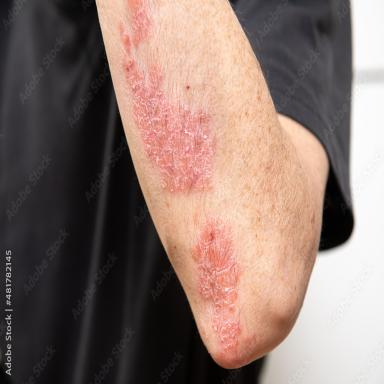Psoriasis: (118, 0, 216, 196), (192, 216, 260, 367)
